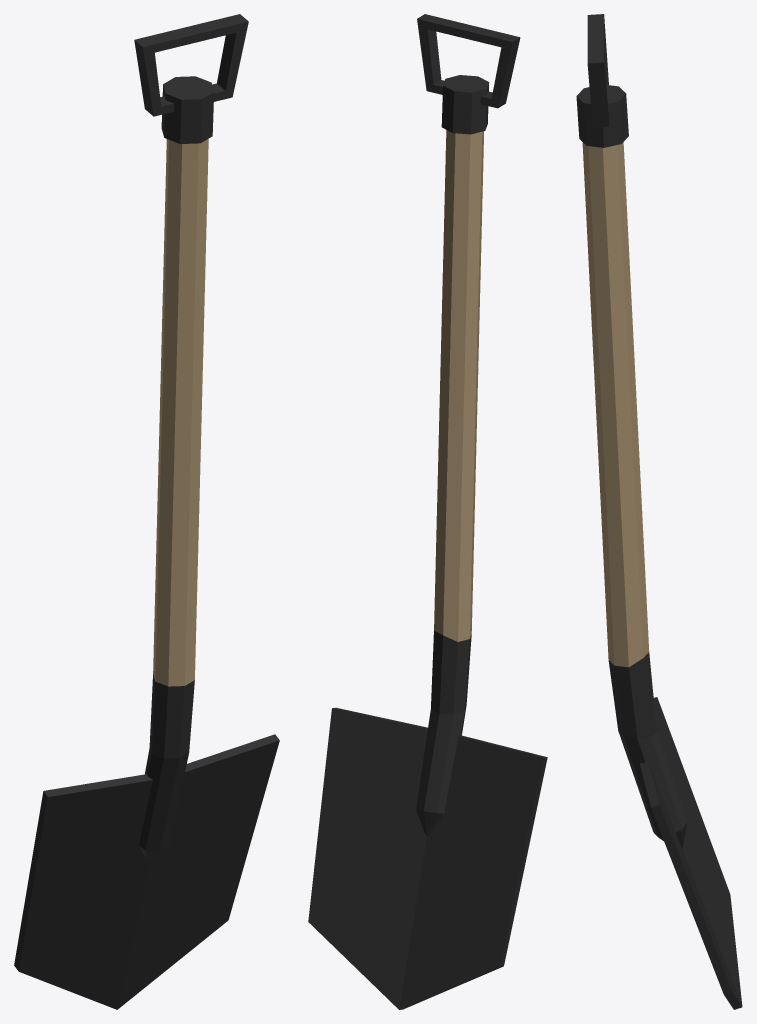
File: Shovel.fbx
The picture shows the model from 3 angles, left to right: view 1: azimuth 30°, elevation 25°; view 2: azimuth 150°, elevation 25°; view 3: azimuth 270°, elevation 25°; orthographic projection. The views are drawn at different scales.
Parts seen in each view (by area): view 1: Shovel; view 2: Shovel; view 3: Shovel.
Boxes of the visible parts, x1,y1,x2,y2 form: Shovel: [14, 14, 279, 1009]; Shovel: [308, 14, 547, 1009]; Shovel: [576, 14, 742, 1009].
Bounding box in the file's own units: 17.78 × 75.32 × 11.66.
